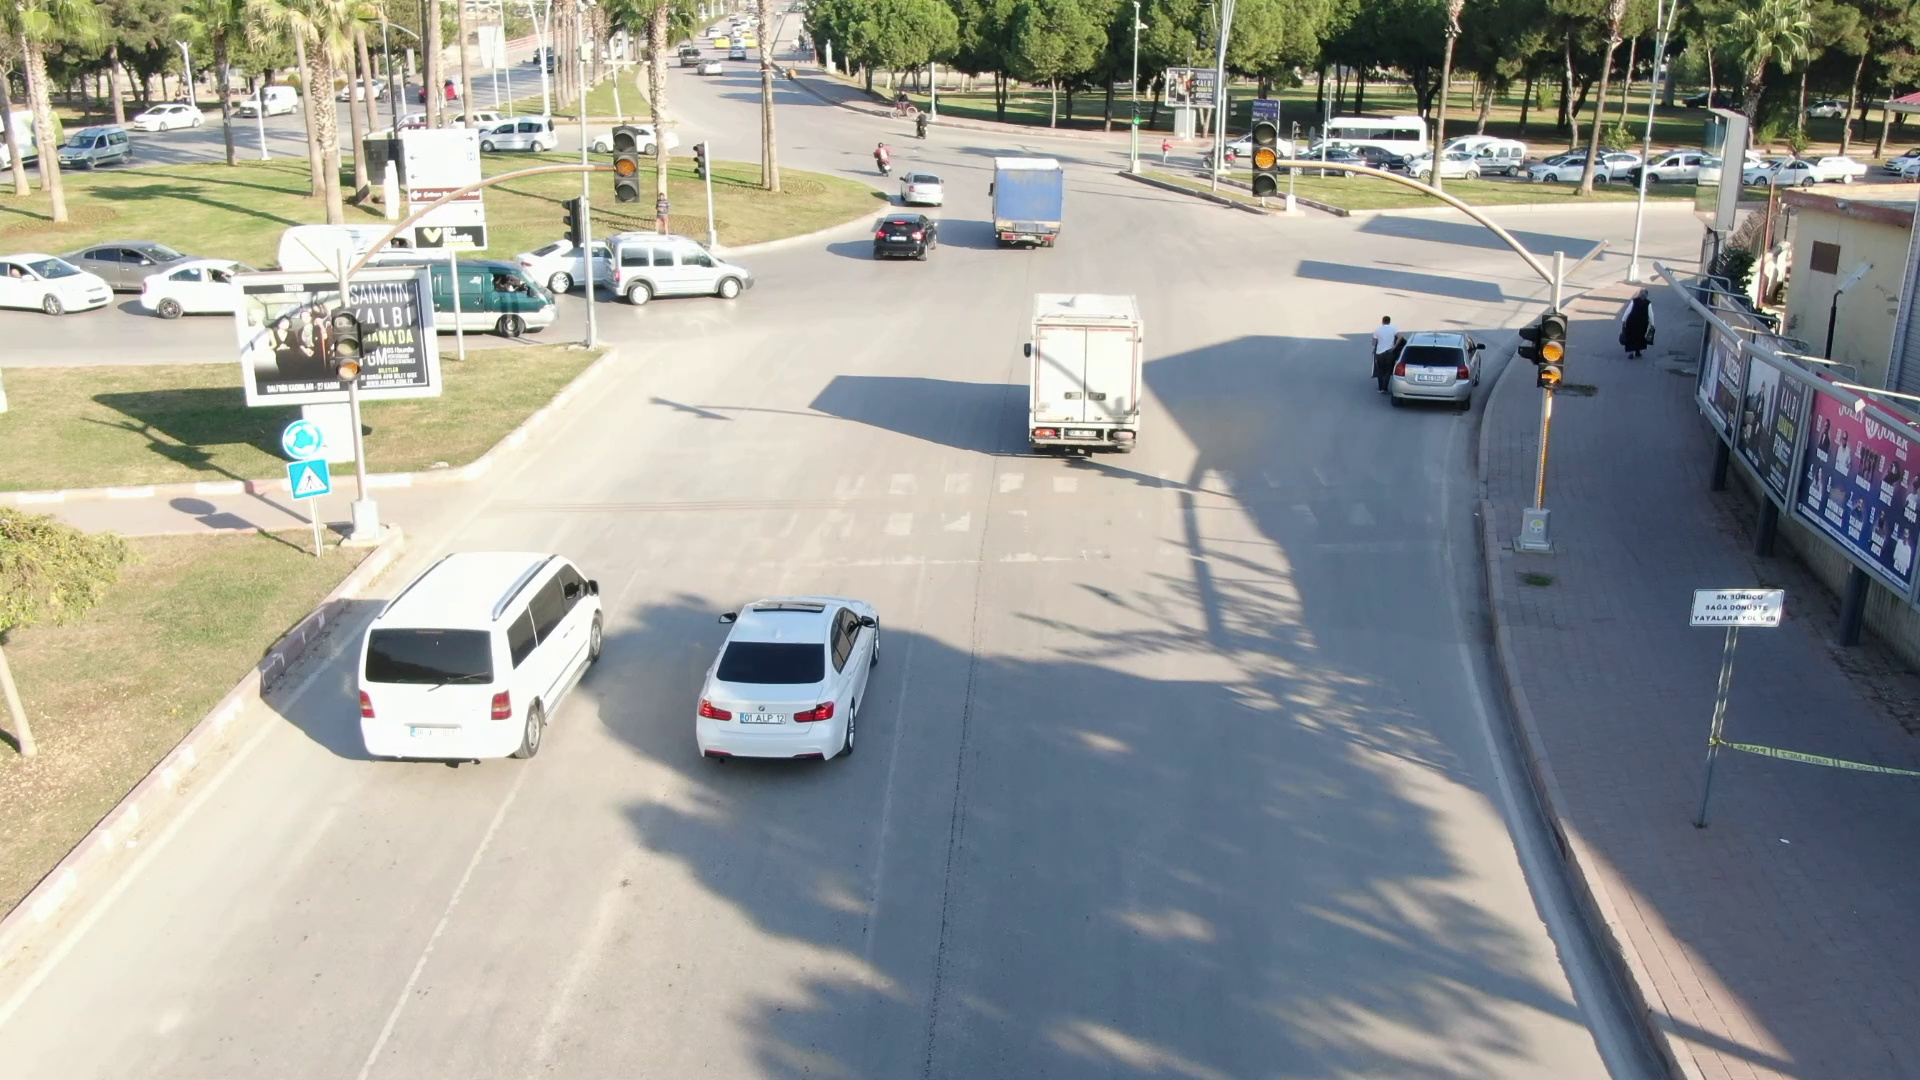car: (351, 533, 627, 784), (686, 582, 885, 780), (993, 277, 1175, 470), (967, 137, 1090, 260), (597, 223, 759, 311), (1395, 325, 1499, 413), (863, 209, 938, 259)
person: (1355, 311, 1400, 395), (1616, 282, 1659, 368)
